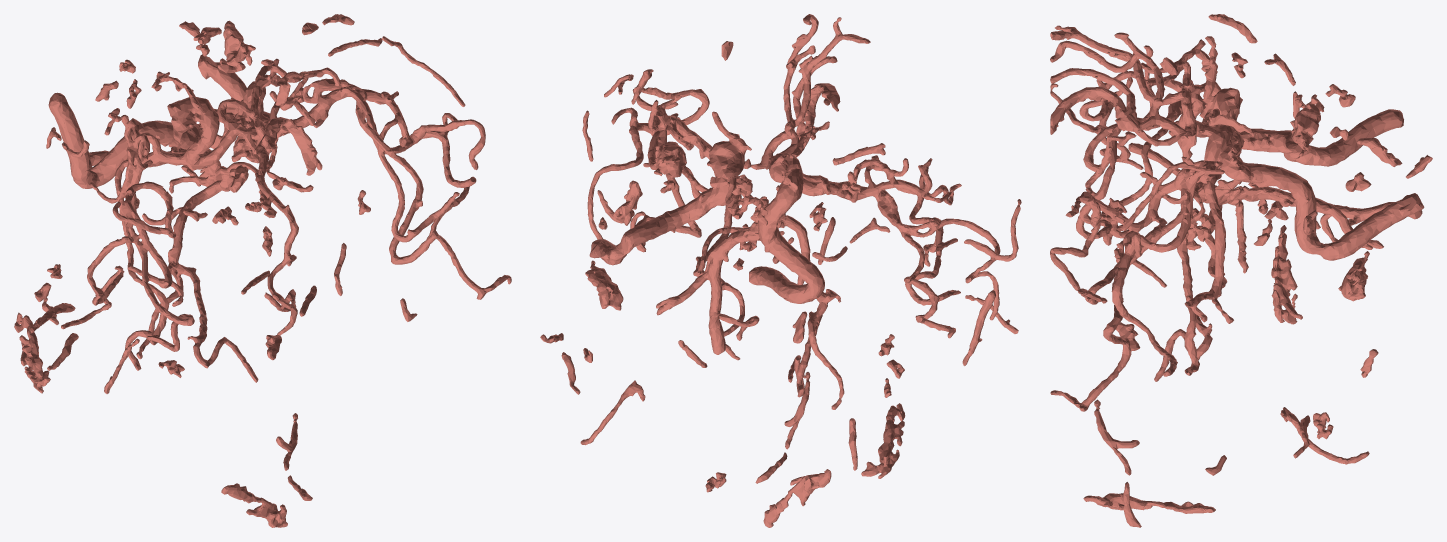
File: vessel_tree.glb
The picture shows the model from 3 angles, left to right: view 1: azimuth 30°, elevation 25°; view 2: azimuth 150°, elevation 25°; view 3: azimuth 270°, elevation 25°; orthographic projection. The views are drawn at different scales.
Parts seen in each view (by area): view 1: world; view 2: world; view 3: world.
Part boxes in pixels (x1,y1,x2,y2): world: (14, 14, 511, 527); world: (540, 14, 1021, 527); world: (1050, 14, 1432, 527).
Bounding box in the file's own units: 138 × 149 × 106.
